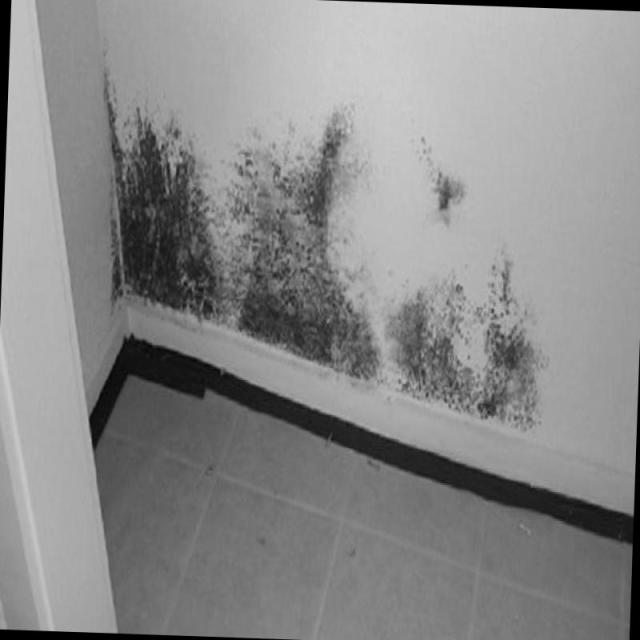stain marks: (96, 35, 574, 435)
